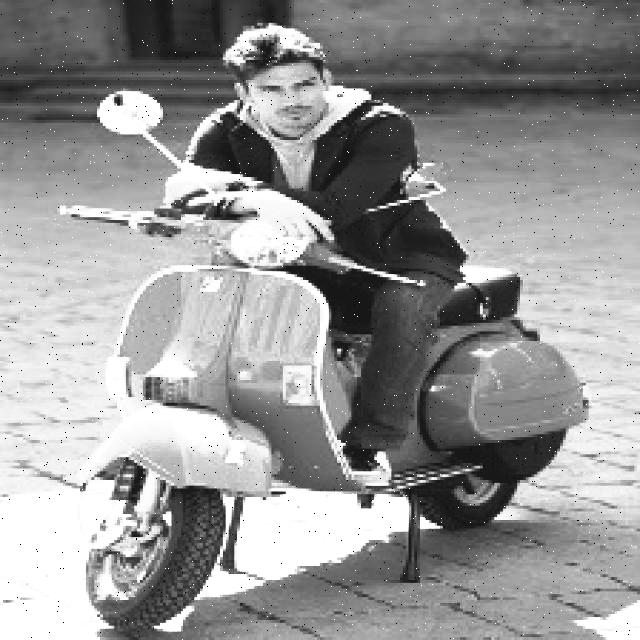Bike: (49, 200, 578, 635)
